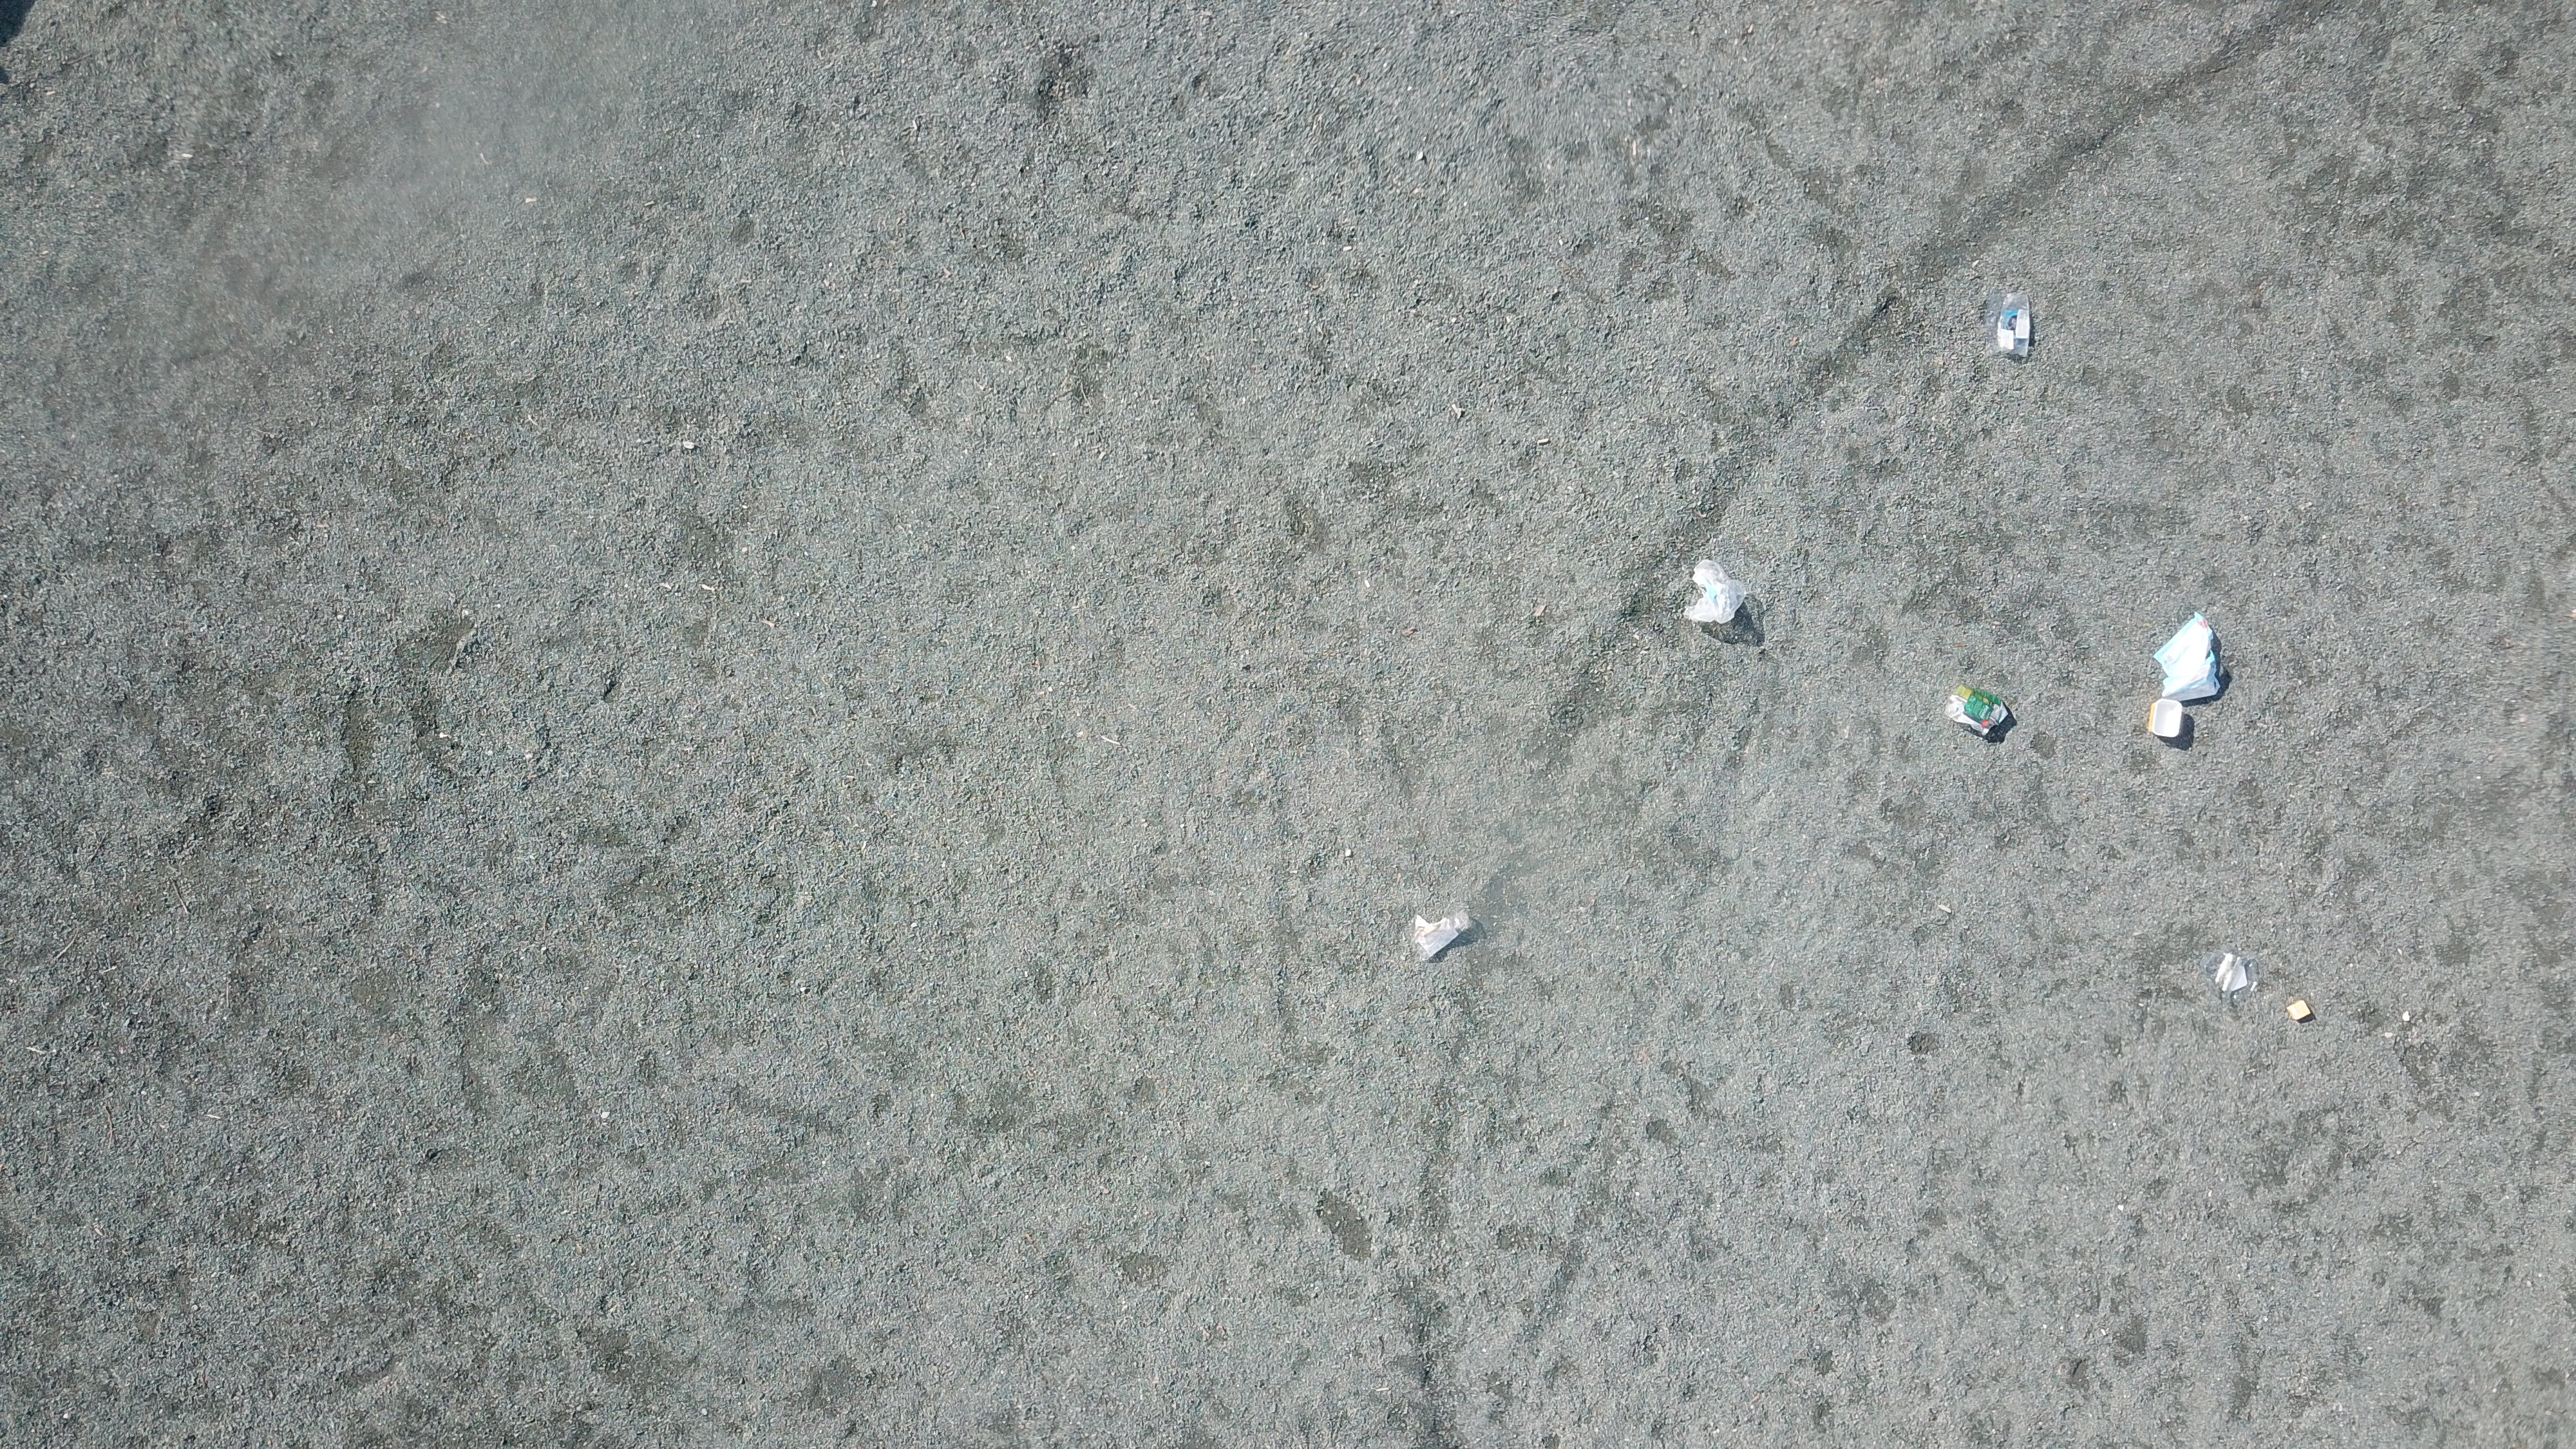Plastic: (1683, 557, 1750, 626), (1946, 683, 2012, 736), (2153, 614, 2213, 671), (2204, 952, 2265, 1008), (1414, 909, 1476, 961), (1992, 295, 2031, 357), (2160, 671, 2220, 701), (2148, 701, 2183, 740), (2288, 1001, 2312, 1023)
